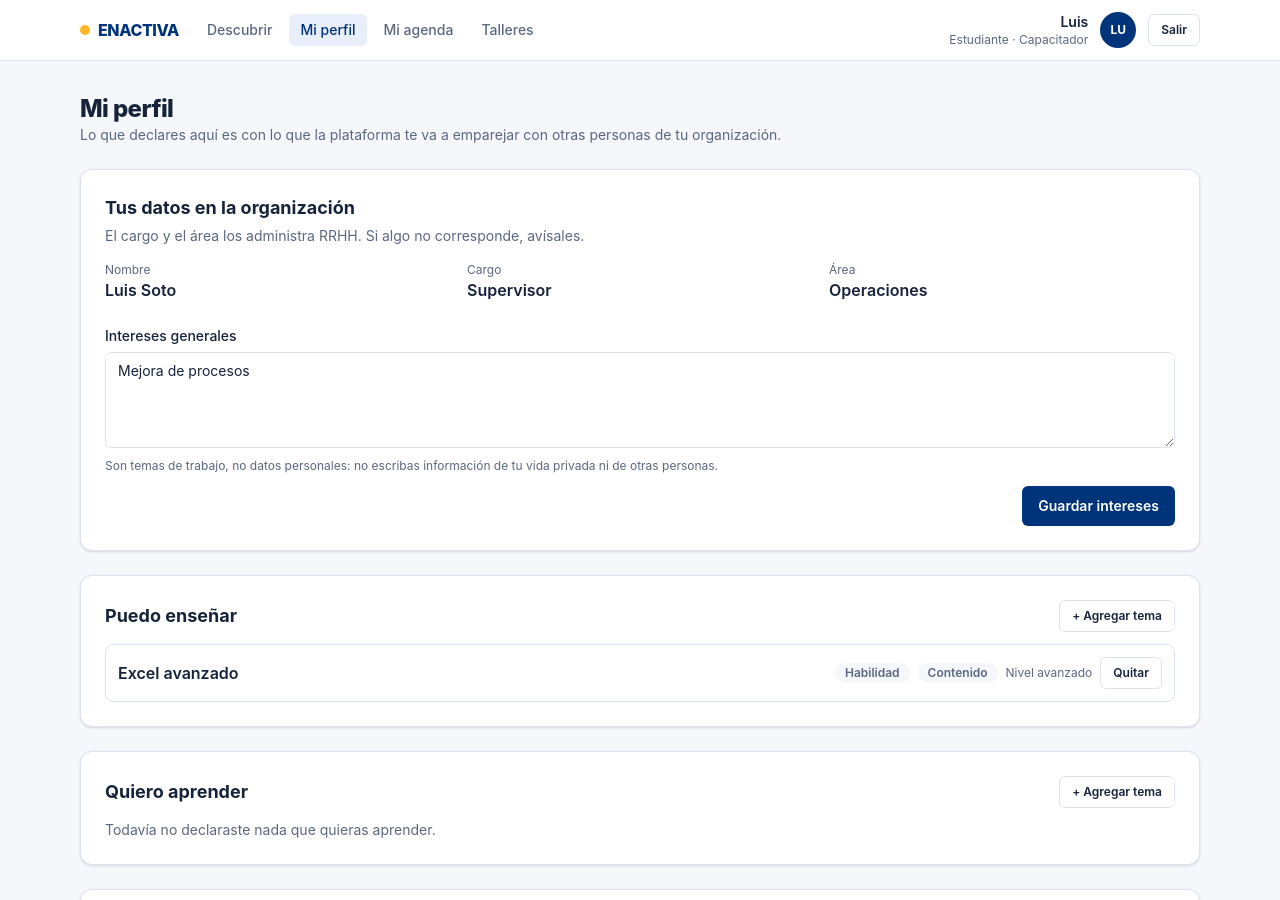
Test case: Mi perfil › declara un tema que ya existe en el catálogo, con sus dimensiones y su nivel
Click the button "+ Agregar tema" in the row of "Quiero aprender": (1117, 792) [1059,776,1175,808]
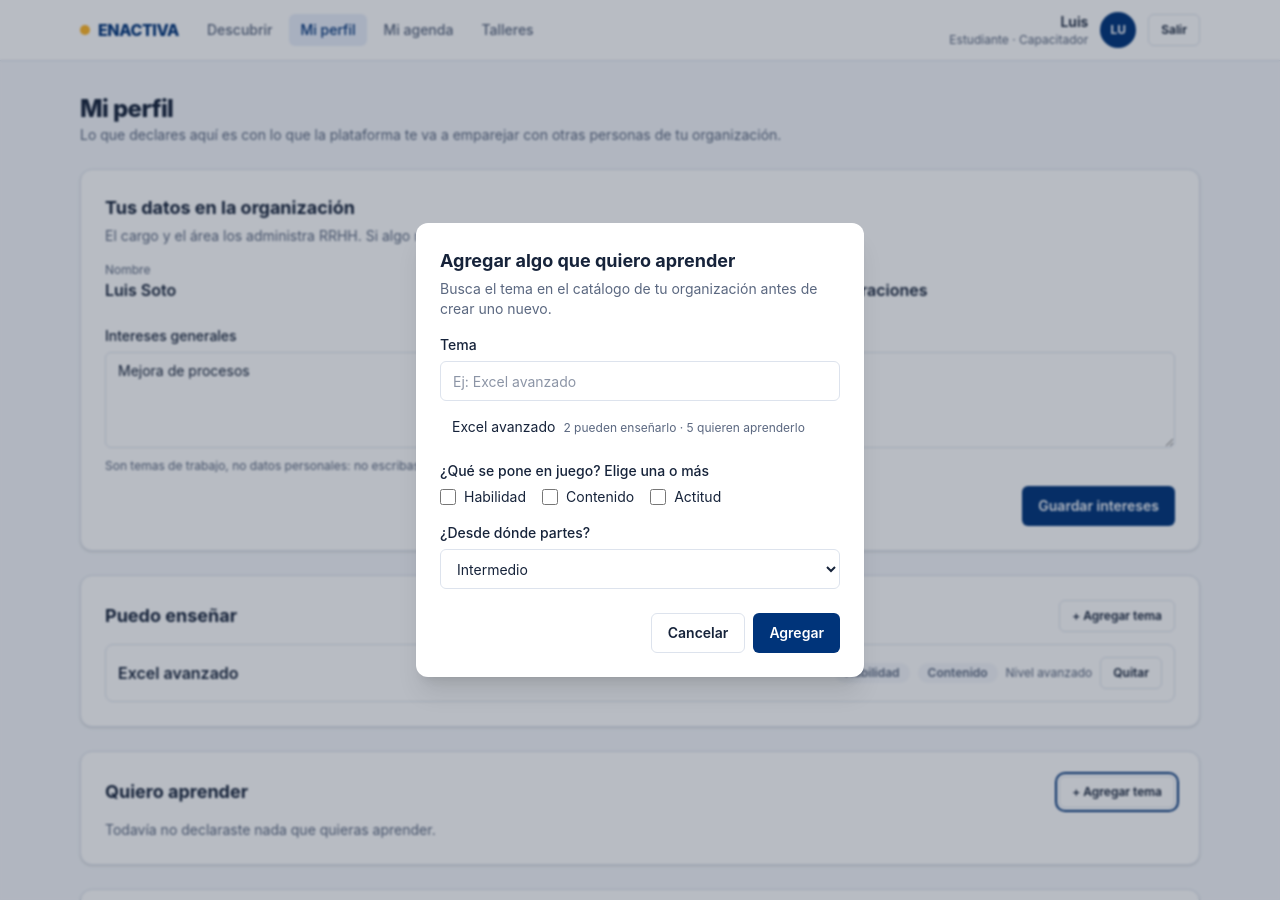
In the field labelled "Tema": (640, 381) [440,361,840,401], type "excel"
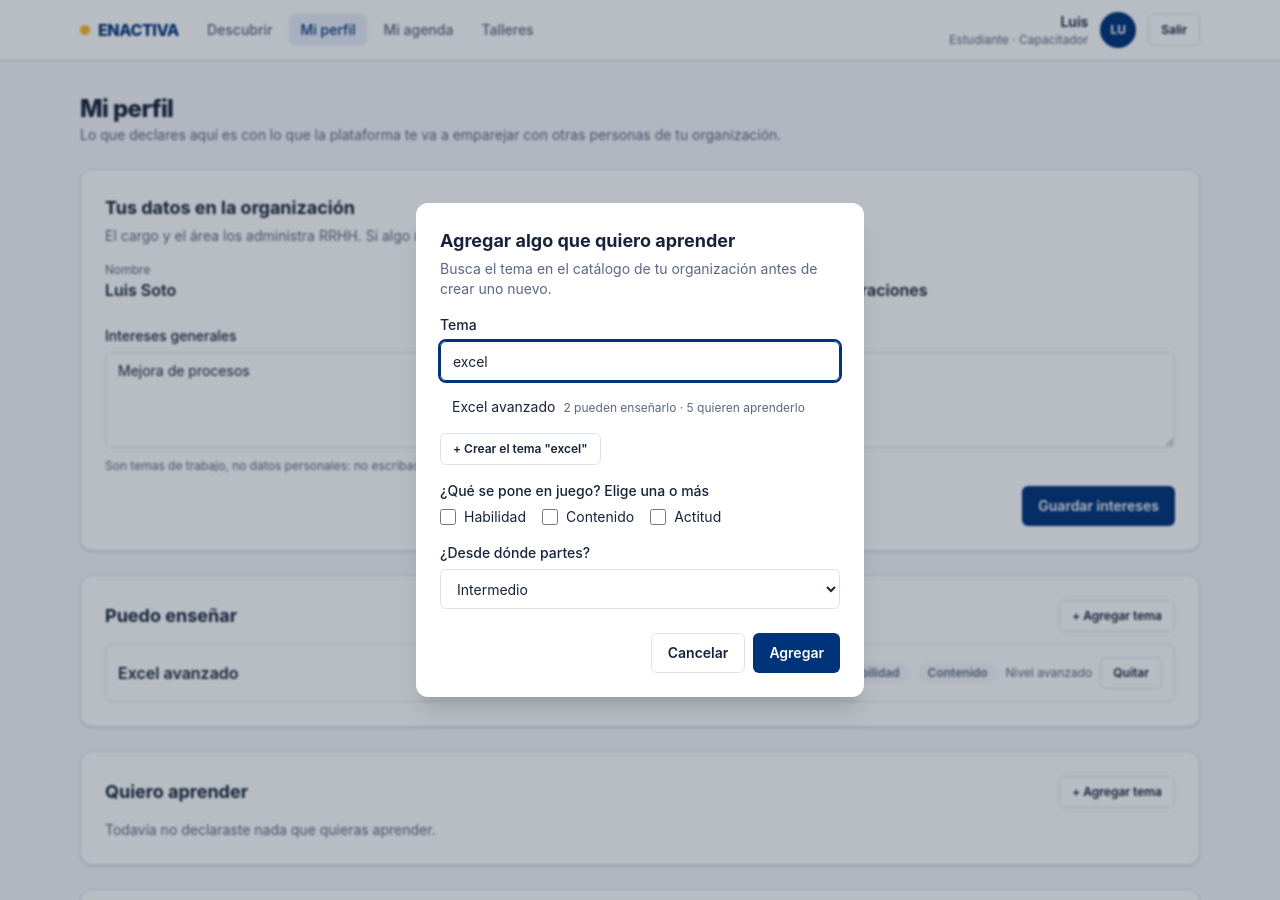
Click the button "Excel avanzado2 pueden enseñarlo · 5 quieren aprenderlo": (640, 407) [440,389,840,425]
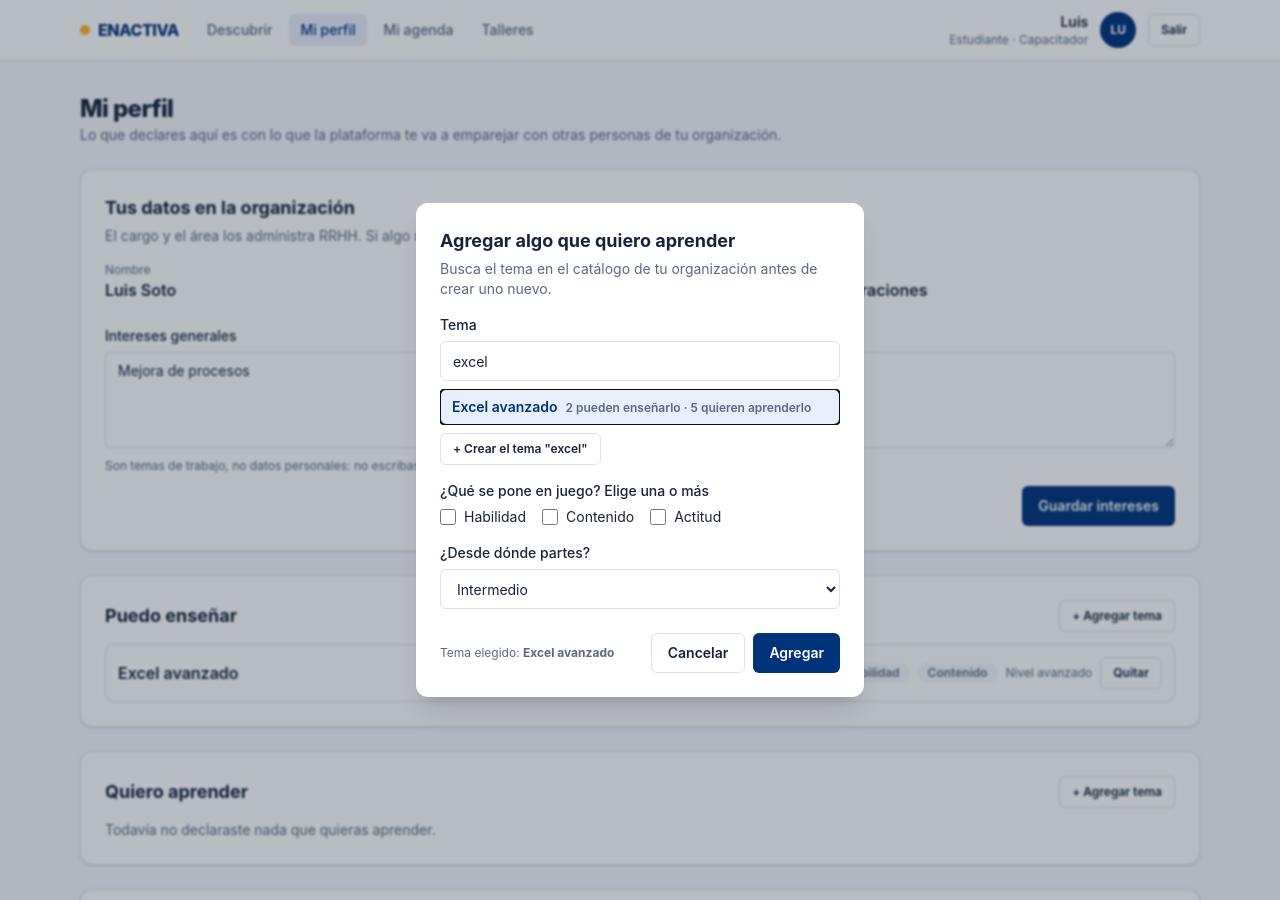
Click the checkbox labelled "Contenido": (550, 517) [542,509,558,525]
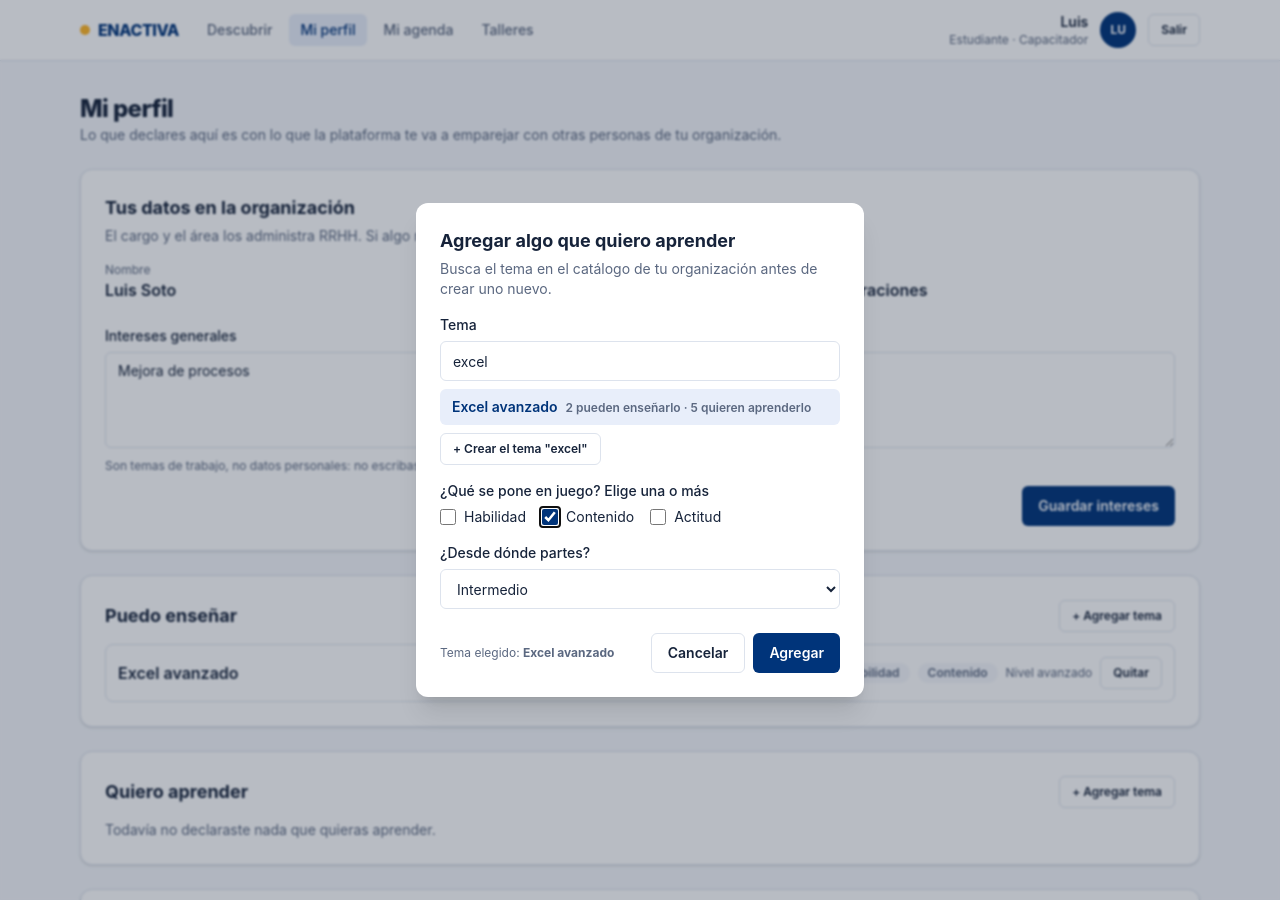
Select "Básico" in the dropdown labelled "¿Desde dónde partes?": (640, 589) [440,569,840,609]
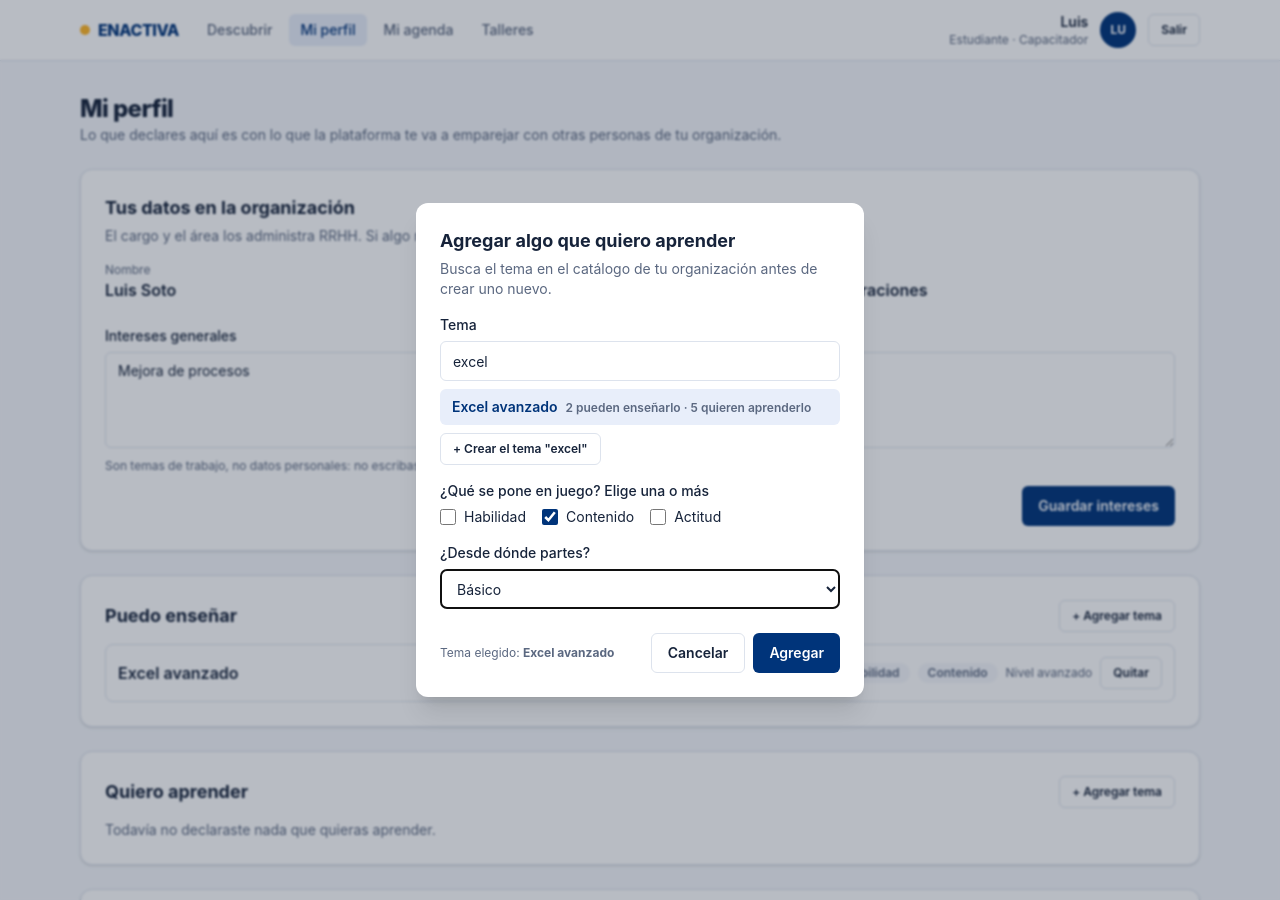
Click the button "Agregar": (797, 653) [753,633,840,673]
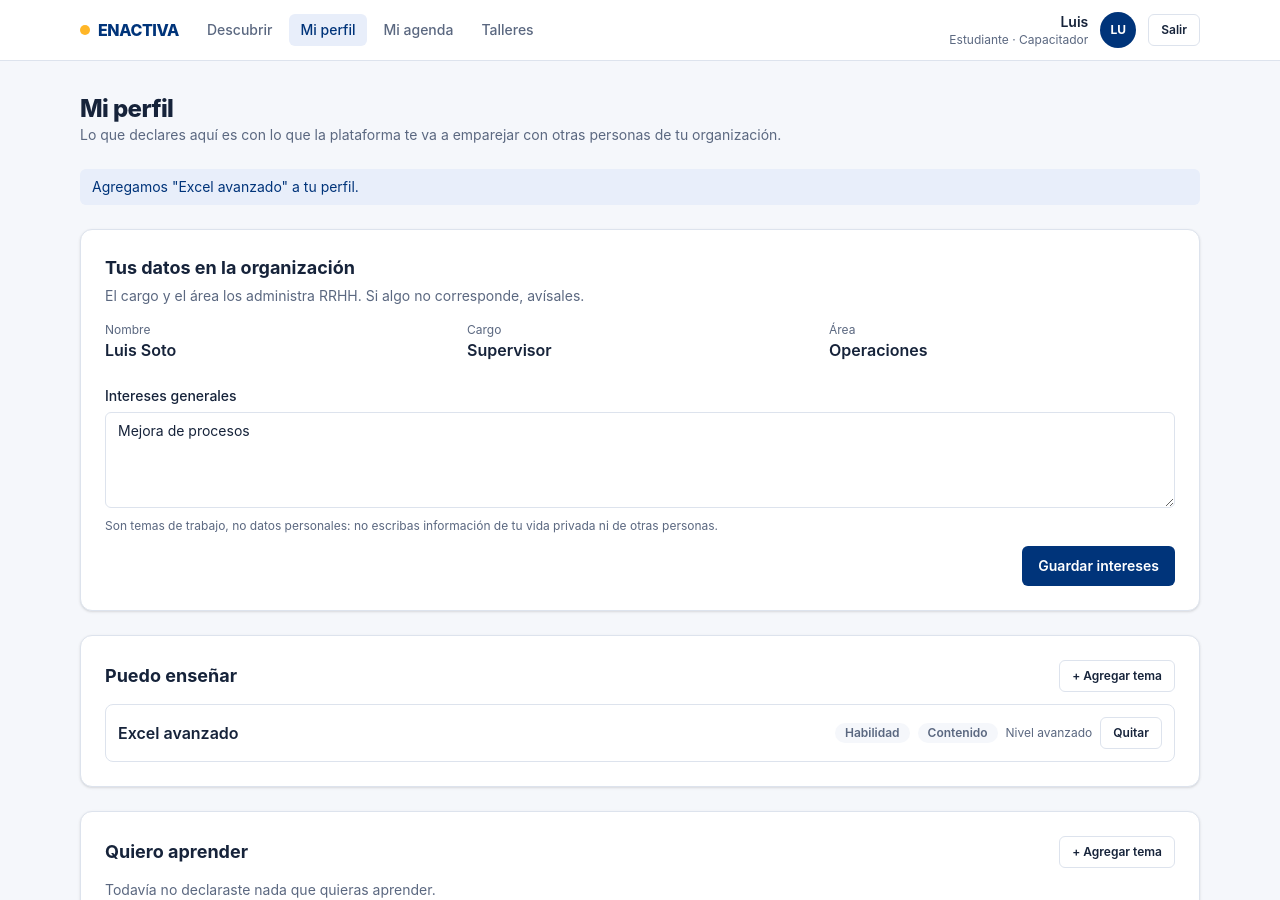
Now the message shows "Agregamos \"Excel avanzado\"", box [92,178,359,195]
